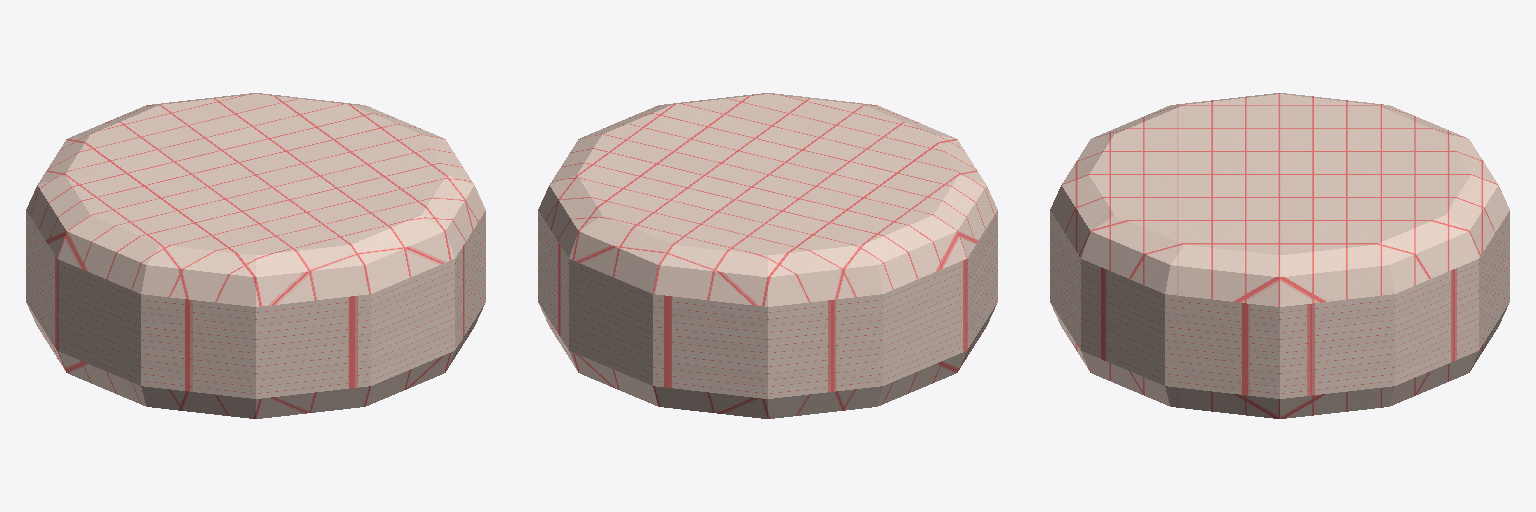
3 views of the same model, side by side, from view 1: azimuth 30°, elevation 25°; view 2: azimuth 150°, elevation 25°; view 3: azimuth 270°, elevation 25° (orthographic).
Parts seen in each view (by area): view 1: ChamferCyl002; view 2: ChamferCyl002; view 3: ChamferCyl002.
Boxes of the visible parts, box(x1,y1,x2,y2) form: ChamferCyl002: box(26, 93, 485, 418); ChamferCyl002: box(538, 93, 997, 418); ChamferCyl002: box(1050, 93, 1509, 418).
Bounding box in the file's own units: 11.68 × 4.55 × 11.68.
Materials: 1 (1 with a texture image).